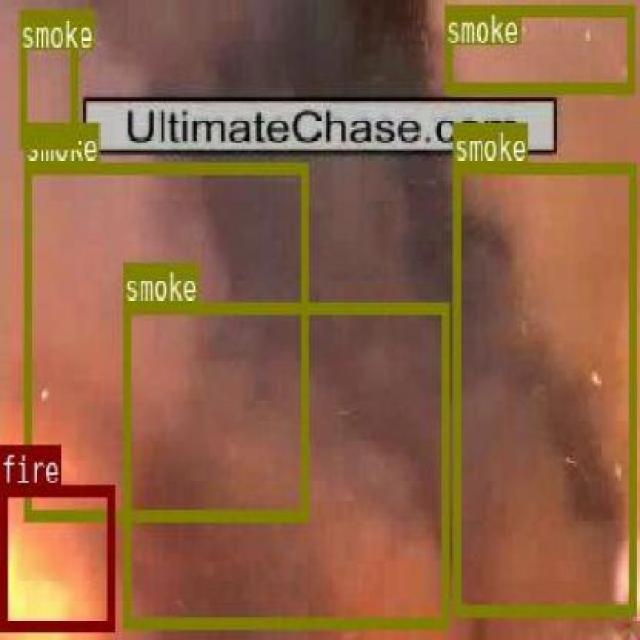Fire: (0, 483, 114, 628)
Smoke: (121, 302, 448, 628), (22, 160, 307, 518), (452, 160, 634, 614), (444, 3, 633, 92), (18, 9, 76, 146)
